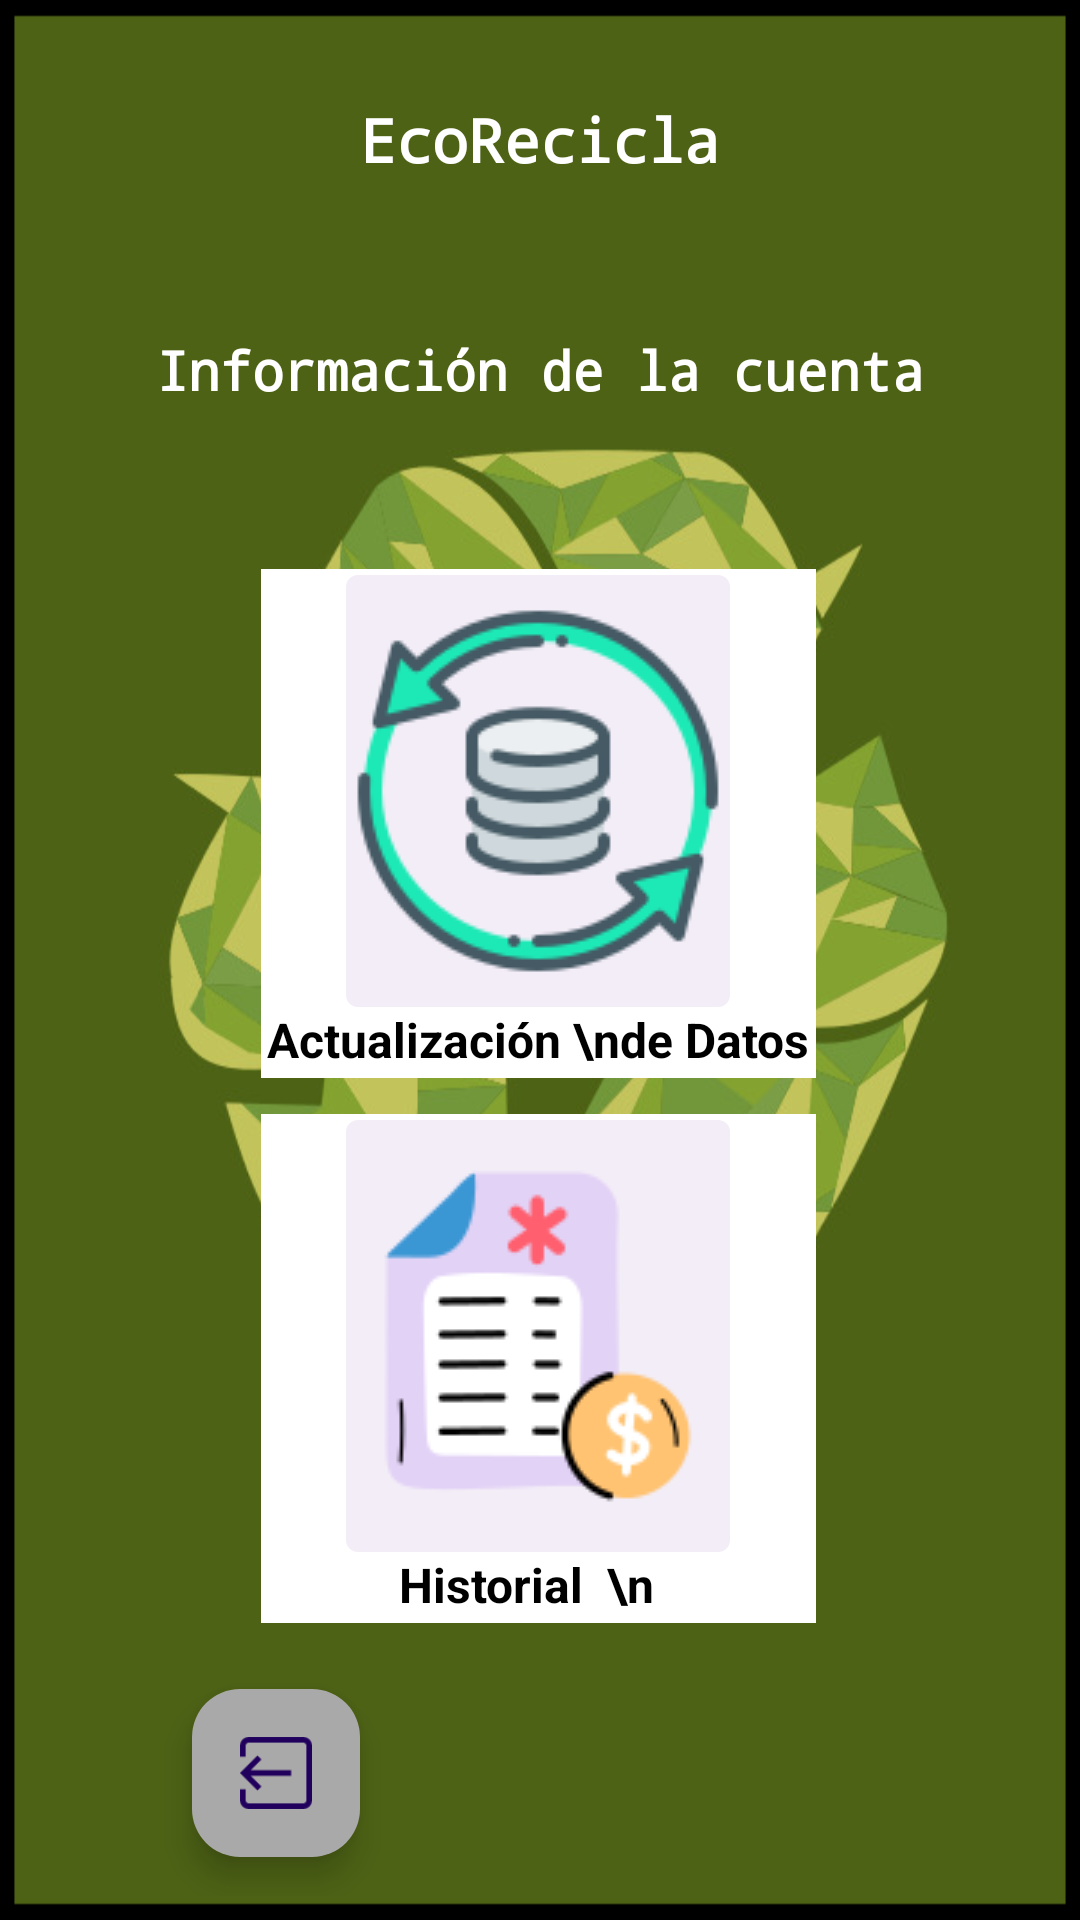

Screen size 1080*1920. Icon name, then its center in pixels as (x,y):
cerrar sesion: (276,1773)
